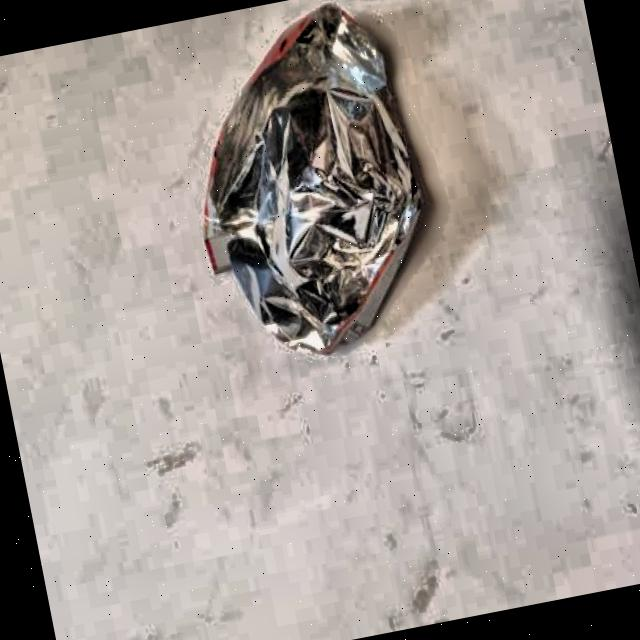plastic: (167, 0, 458, 370)
